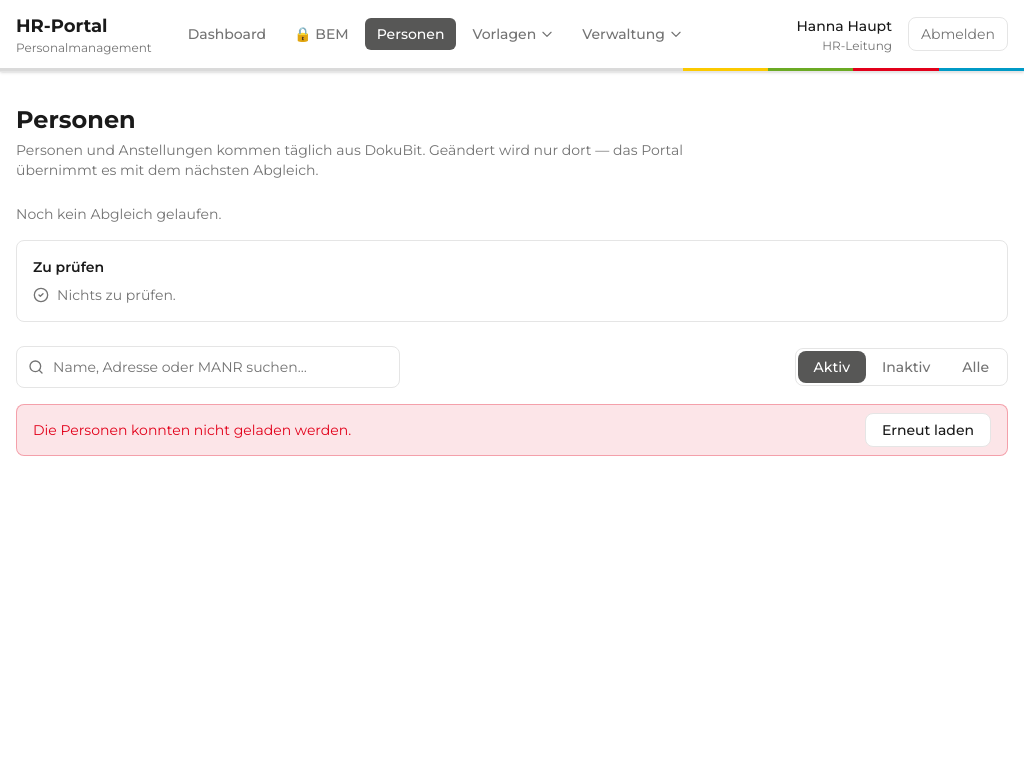
it: Fehler der Liste als Banner, „Erneut laden“ fragt noch einmal
Check: the message "Die Personen konnten nicht geladen werden. Erneut laden" is shown, box [16, 404, 1008, 456]
Check: the text "Noch keine Personen" is not shown
Step 1. Click the button "Erneut laden" → click(928, 430), box [865, 413, 991, 447]
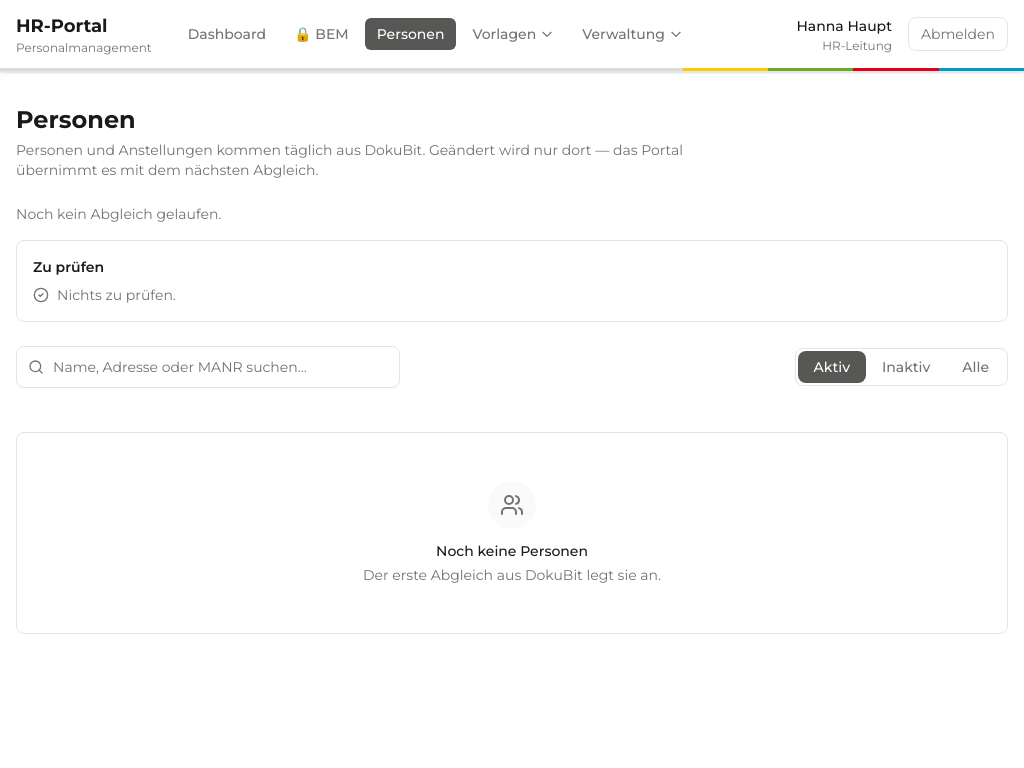
Check: the text "Noch keine Personen" is shown, box [436, 541, 588, 561]
Check: the message "Die Personen konnten nicht geladen werden. Erneut laden" is gone
